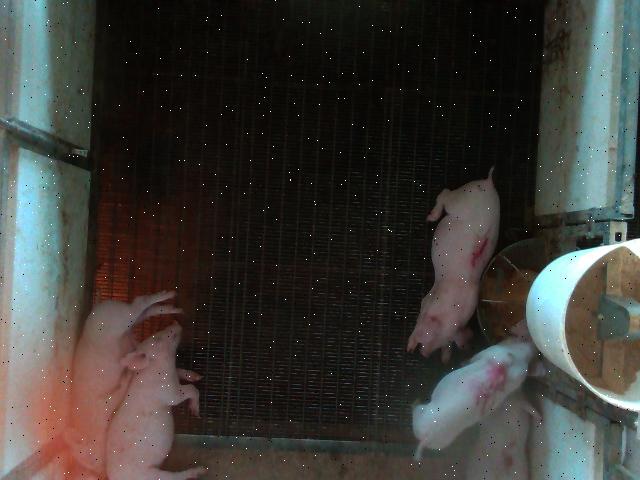pig-1: (408, 166, 500, 362)
pig-3: (466, 389, 540, 478)
pig-5: (412, 319, 545, 459)
